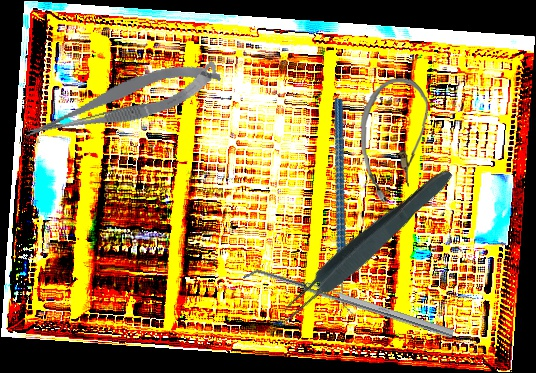Cannula: (358, 76, 433, 205)
Chopper: (272, 97, 419, 318)
Micro Scissor: (16, 55, 228, 146)
Spatula Surgical: (242, 262, 455, 347)
Tissue Forceps: (271, 160, 460, 330)
